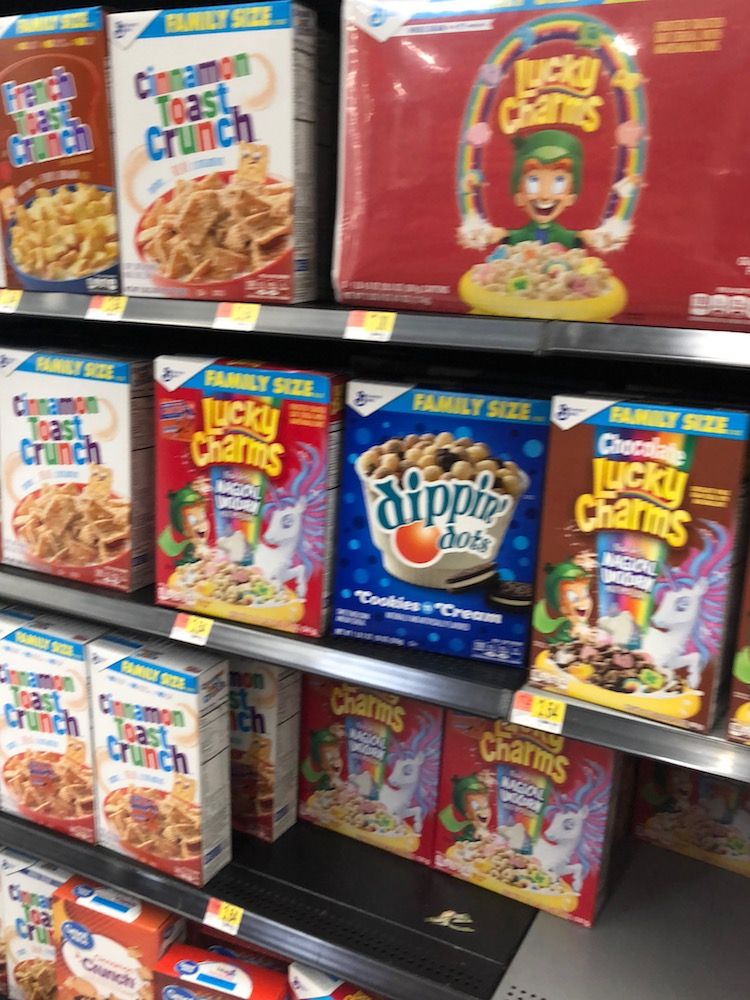Dippin Dots Cookies & Cream -568929378: (351, 400, 532, 648)
